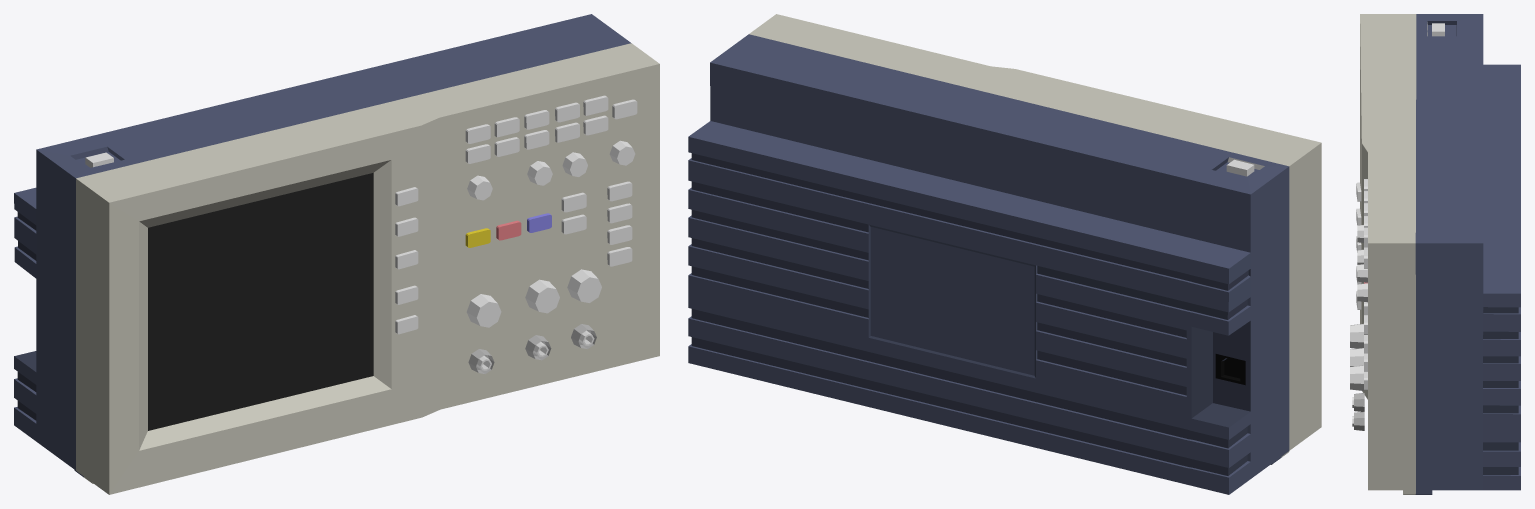
The model's file is osiloskop_v5.gltf.
The picture shows the model from 3 angles, left to right: view 1: azimuth 30°, elevation 25°; view 2: azimuth 150°, elevation 25°; view 3: azimuth 270°, elevation 25°; orthographic projection. The views are drawn at different scales.
Visible parts, largest first — view 1: osiloskop; view 2: osiloskop; view 3: osiloskop.
Part boxes in pixels (left/top/right/bottom): osiloskop: left=14, top=14, right=659, bottom=494; osiloskop: left=688, top=14, right=1321, bottom=494; osiloskop: left=1350, top=14, right=1520, bottom=494.
Size of the model in its own units: 0.3843 by 0.2014 by 0.121.
